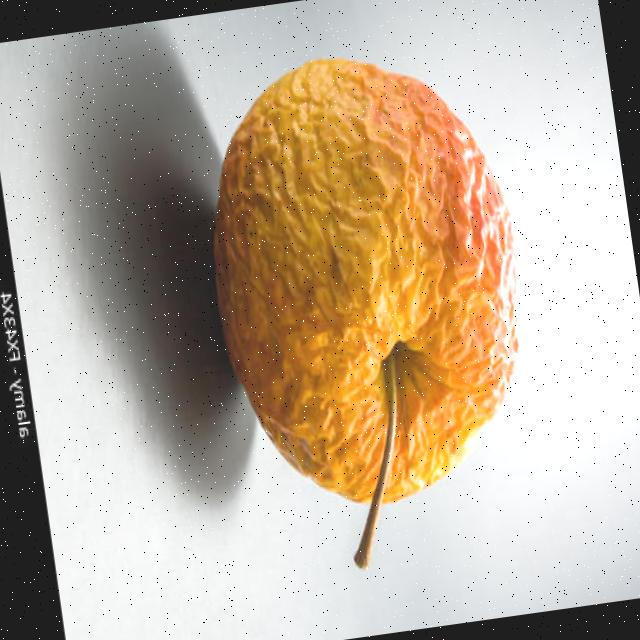overripe: (186, 34, 556, 528)
